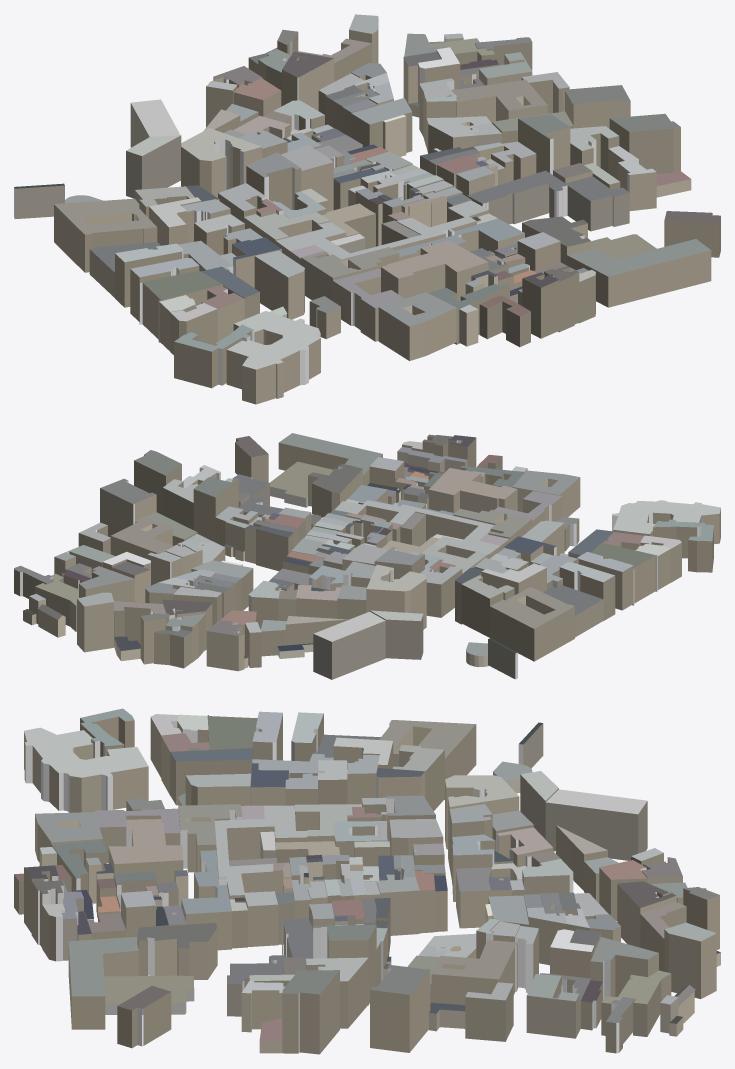
3 renders of one model, top to bottom at view 1: azimuth 30°, elevation 25°; view 2: azimuth 150°, elevation 25°; view 3: azimuth 270°, elevation 25°, orthographic. The views are drawn at different scales.
Visible parts, largest first — view 1: tuile; view 2: tuile; view 3: tuile.
Part boxes in pixels (bbox=[...]): tuile: bbox=[14, 14, 720, 404]; tuile: bbox=[14, 433, 720, 679]; tuile: bbox=[14, 708, 720, 1054].
Size of the model in its own units: 272 by 32.35 by 264.
